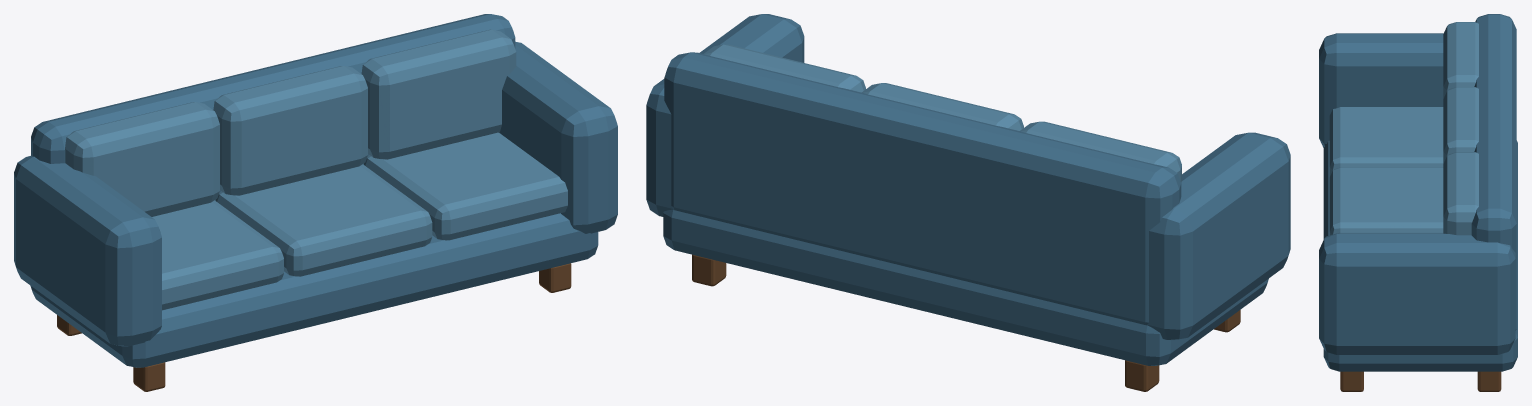
Rendered from sofa.glb.
3 views of the same model, side by side, from view 1: azimuth 30°, elevation 25°; view 2: azimuth 150°, elevation 25°; view 3: azimuth 270°, elevation 25° (orthographic). The views are drawn at different scales.
Parts seen in each view (by area): view 1: Upholstered sofa base, Rounded sofa arm, Back cushion 2, Back cushion 3, Seat cushion 2, Rounded sofa arm.001, Seat cushion 3, Back cushion 1, Seat cushion 1, Upholstered sofa back, Short sofa foot, Short sofa foot.002; view 2: Upholstered sofa back, Upholstered sofa base, Rounded sofa arm, Rounded sofa arm.001, Back cushion 1, Back cushion 3, Back cushion 2, Short sofa foot.001, Short sofa foot.003; view 3: Rounded sofa arm.001, Rounded sofa arm, Upholstered sofa back, Seat cushion 2, Seat cushion 1, Upholstered sofa base, Back cushion 3, Back cushion 1, Back cushion 2, Short sofa foot.003, Short sofa foot.002, Seat cushion 3.
Part boxes in pixels (bbox=[...]): Upholstered sofa base: bbox=[30, 213, 598, 367]; Rounded sofa arm: bbox=[14, 155, 161, 346]; Back cushion 2: bbox=[213, 66, 367, 195]; Back cushion 3: bbox=[361, 29, 516, 159]; Seat cushion 2: bbox=[215, 164, 432, 276]; Rounded sofa arm.001: bbox=[499, 41, 617, 233]; Seat cushion 3: bbox=[364, 132, 567, 240]; Back cushion 1: bbox=[65, 102, 219, 216]; Seat cushion 1: bbox=[152, 200, 283, 310]; Upholstered sofa back: bbox=[31, 14, 515, 200]; Short sofa foot: bbox=[133, 362, 165, 391]; Short sofa foot.002: bbox=[539, 263, 571, 292]; Upholstered sofa back: bbox=[664, 52, 1181, 325]; Upholstered sofa base: bbox=[663, 209, 1268, 365]; Rounded sofa arm: bbox=[1147, 132, 1290, 340]; Rounded sofa arm.001: bbox=[646, 14, 804, 216]; Back cushion 1: bbox=[1020, 121, 1181, 182]; Back cushion 3: bbox=[704, 44, 865, 92]; Back cushion 2: bbox=[862, 83, 1023, 130]; Short sofa foot.001: bbox=[1125, 360, 1159, 391]; Short sofa foot.003: bbox=[692, 254, 726, 286]; Rounded sofa arm.001: bbox=[1319, 233, 1515, 354]; Rounded sofa arm: bbox=[1319, 33, 1443, 147]; Upholstered sofa back: bbox=[1471, 14, 1516, 330]; Seat cushion 2: bbox=[1329, 167, 1443, 235]; Seat cushion 1: bbox=[1329, 107, 1443, 176]; Upholstered sofa base: bbox=[1323, 140, 1517, 371]; Back cushion 3: bbox=[1443, 152, 1478, 235]; Back cushion 1: bbox=[1443, 22, 1478, 98]; Back cushion 2: bbox=[1443, 87, 1478, 163]; Short sofa foot.003: bbox=[1477, 371, 1501, 391]; Short sofa foot.002: bbox=[1340, 371, 1363, 391]; Seat cushion 3: bbox=[1338, 232, 1443, 233].
Size of the model in its own units: 2.24 by 0.875 by 0.84.
